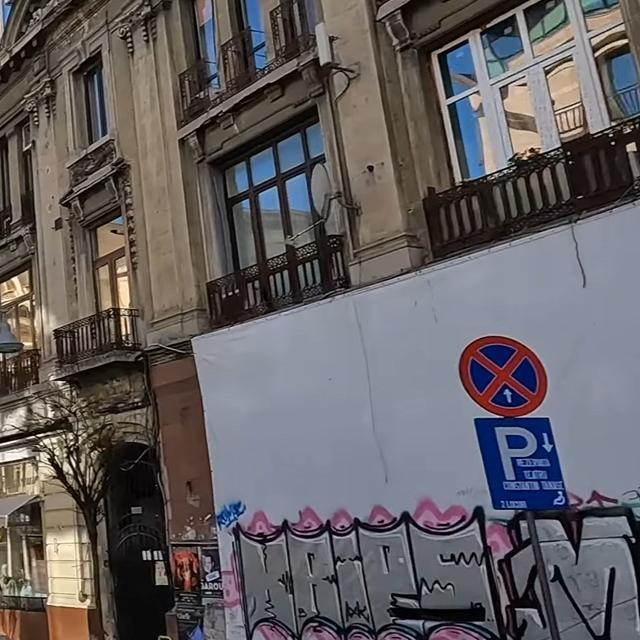forb_waiting: (457, 334, 548, 415)
